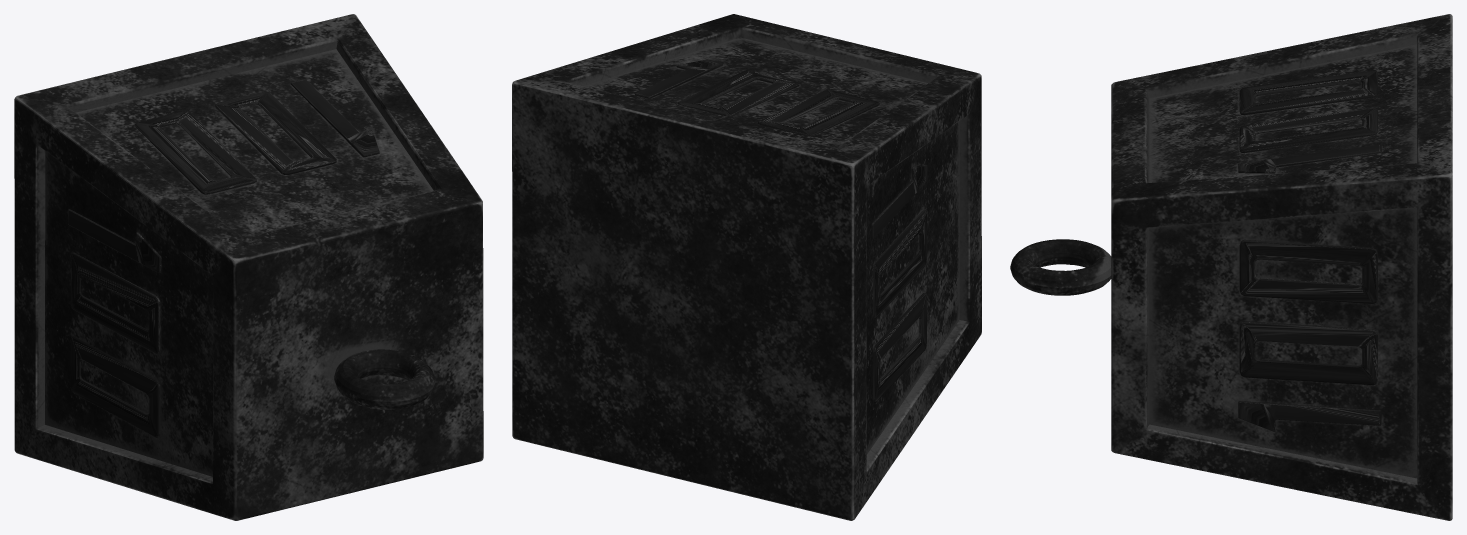
The model's file is peso100.obj.
The picture shows the model from 3 angles, left to right: view 1: azimuth 30°, elevation 25°; view 2: azimuth 150°, elevation 25°; view 3: azimuth 270°, elevation 25°; orthographic projection. The views are drawn at different scales.
Visible parts, largest first — view 1: Object.1; view 2: Object.1; view 3: Object.1.
Part boxes in pixels (left/top/right/bottom): Object.1: left=14, top=14, right=483, bottom=520; Object.1: left=512, top=14, right=981, bottom=520; Object.1: left=1010, top=14, right=1452, bottom=520.
Bounding box in the file's own units: 3425 × 3425 × 3952.
Materials: 1 (1 with a texture image).
